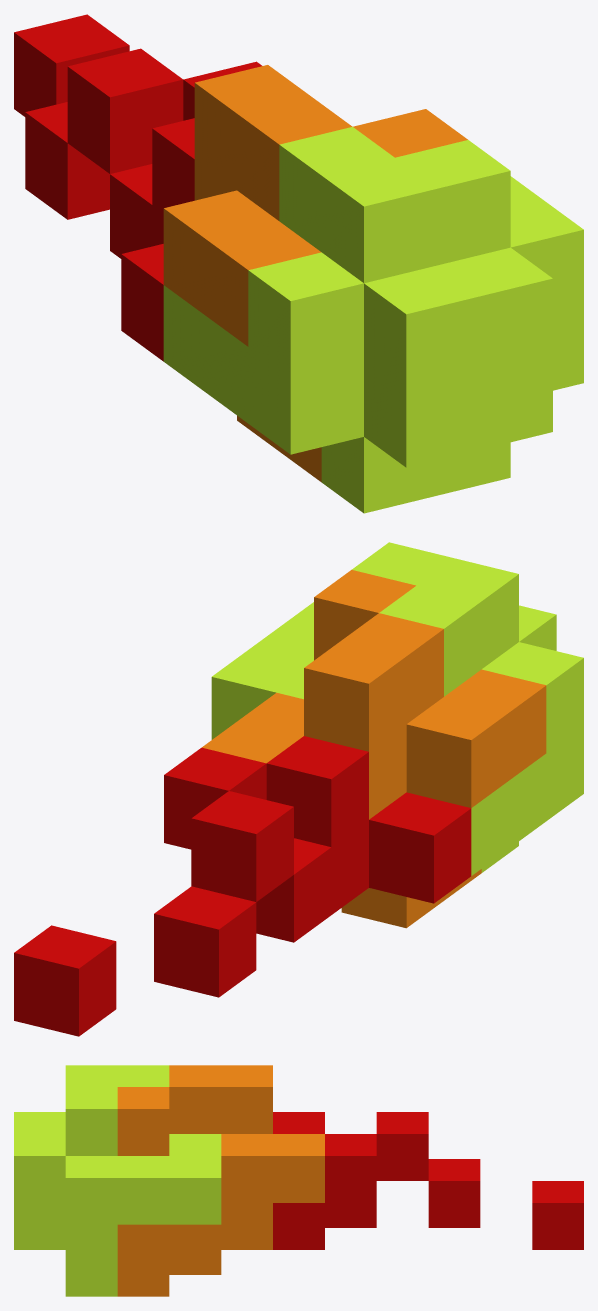
File: fireball.obj
3 renders of one model, top to bottom at view 1: azimuth 30°, elevation 25°; view 2: azimuth 150°, elevation 25°; view 3: azimuth 270°, elevation 25°, orthographic. The views are drawn at different scales.
Size of the model in its own units: 4 by 4 by 11.
1 material, 1 textured.
